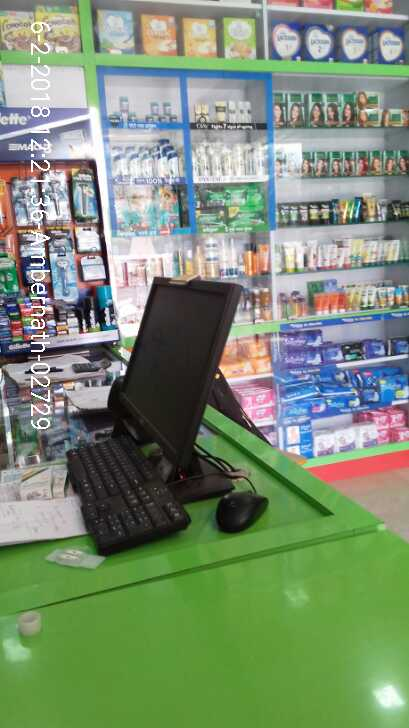beauty: (50, 256, 76, 309), (74, 170, 99, 217), (15, 181, 35, 223), (50, 177, 68, 221), (77, 257, 106, 282), (222, 146, 234, 178), (235, 146, 247, 174), (169, 149, 180, 177), (198, 151, 211, 174), (211, 150, 221, 179), (140, 153, 152, 175), (128, 152, 139, 174), (157, 157, 169, 177)
pharmacy: (156, 187, 181, 240), (124, 187, 153, 231), (231, 207, 268, 228), (197, 205, 228, 225)
